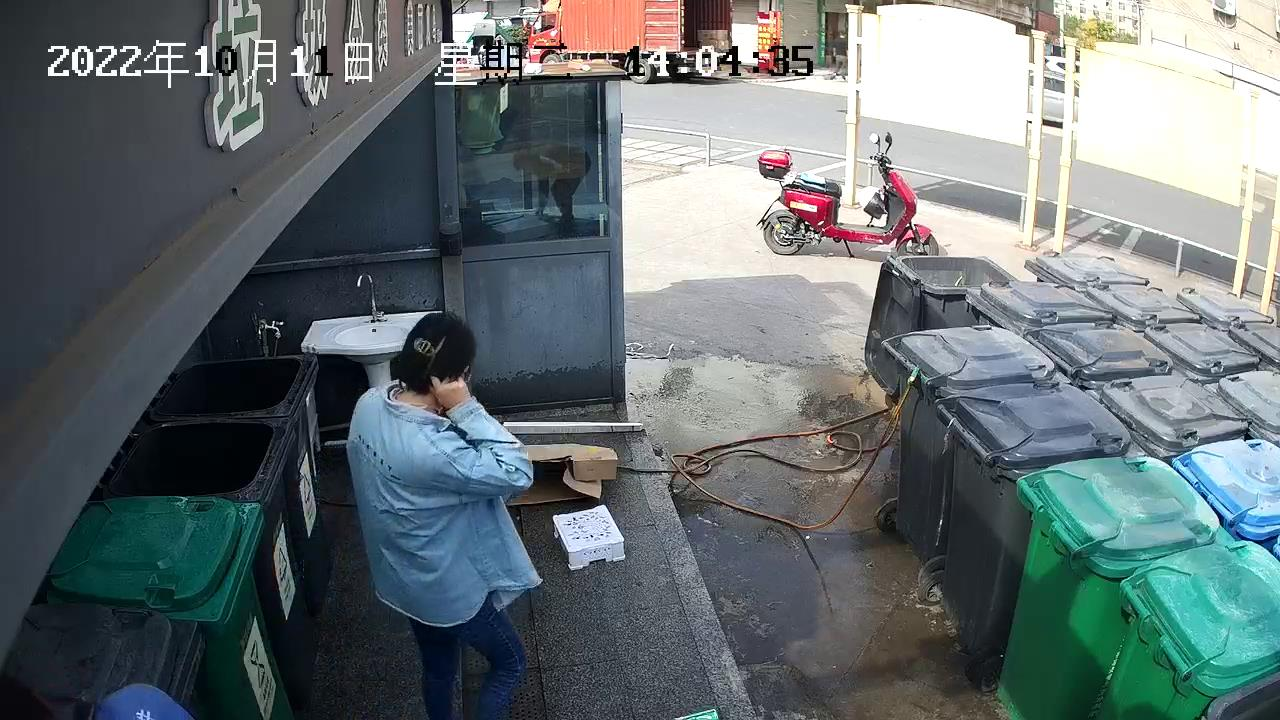suliaozhipin: (549, 502, 628, 575)
worker: (344, 308, 544, 720)
zhizhipin: (504, 440, 621, 508)
